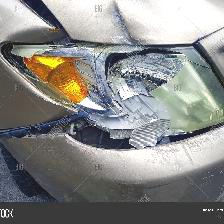head_lamp: (13, 1, 212, 174)
